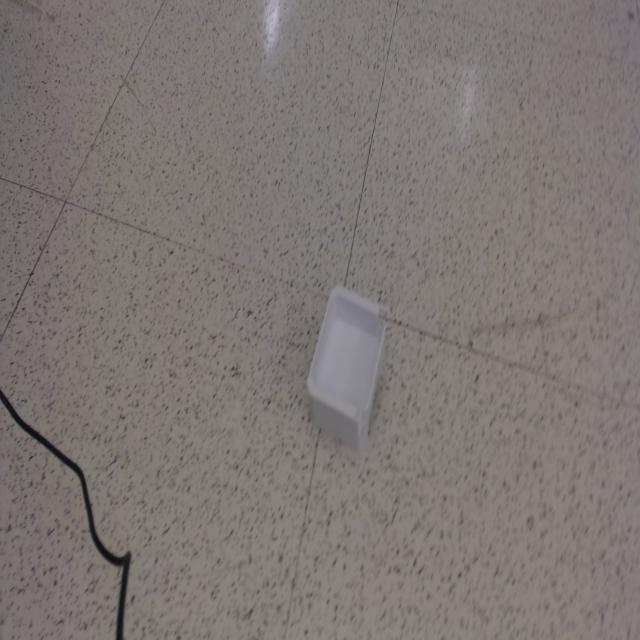wbox: (305, 282, 387, 453)
